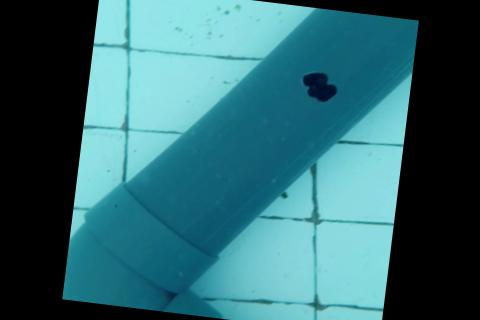kebocoran: (298, 69, 339, 103)
